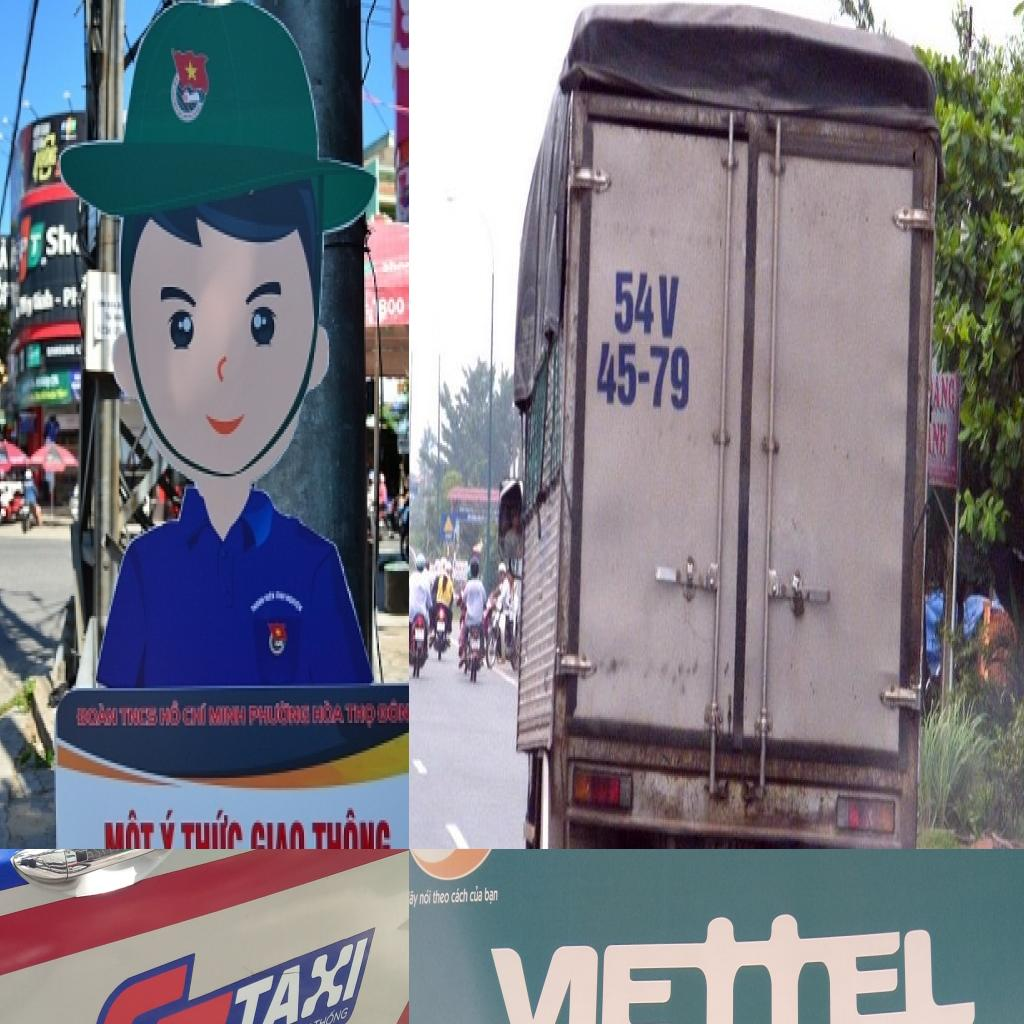text: (487, 911, 977, 1024), (76, 931, 239, 1024), (229, 929, 371, 1024), (309, 807, 394, 849), (612, 266, 658, 338), (180, 805, 249, 849), (596, 336, 637, 410), (649, 342, 691, 413), (99, 808, 157, 849), (249, 817, 309, 849), (249, 698, 312, 728), (658, 272, 681, 344), (76, 700, 121, 730), (44, 222, 74, 260), (932, 372, 957, 414), (346, 701, 377, 733), (209, 703, 248, 728), (157, 805, 179, 849), (312, 698, 346, 726), (119, 706, 159, 728), (310, 1002, 350, 1024), (377, 698, 409, 725), (159, 700, 183, 730), (931, 418, 948, 460), (181, 701, 207, 728), (379, 294, 406, 320), (28, 230, 42, 262), (18, 235, 31, 267), (0, 271, 10, 309), (0, 234, 9, 274), (432, 888, 450, 906), (450, 886, 468, 904), (484, 885, 499, 905), (713, 837, 736, 849), (469, 884, 483, 903), (418, 889, 432, 906), (409, 888, 418, 910), (40, 254, 50, 270), (735, 840, 747, 849)
